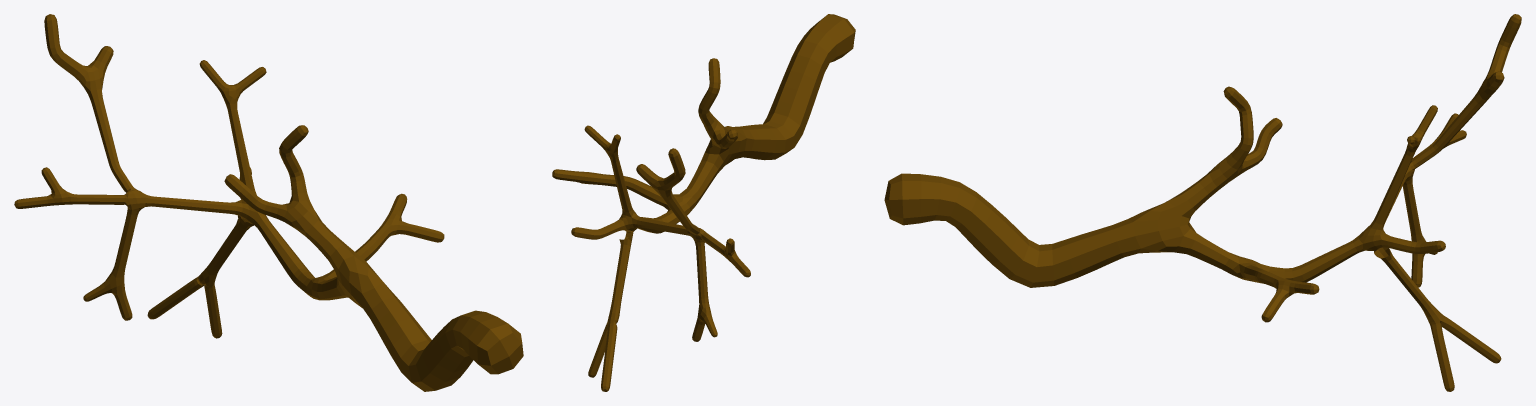
The model's file is Dead_tree.fbx.
3 renders of one model, left to right at view 1: azimuth 30°, elevation 25°; view 2: azimuth 150°, elevation 25°; view 3: azimuth 270°, elevation 25°, orthographic. The views are drawn at different scales.
Parts seen in each view (by area): view 1: Cube; view 2: Cube; view 3: Cube.
Part boxes in pixels (x1=…): Cube: x1=14, y1=14, x2=523, y2=391; Cube: x1=552, y1=14, x2=855, y2=391; Cube: x1=884, y1=14, x2=1521, y2=391.
Size of the model in its own units: 316 by 305 by 558.
